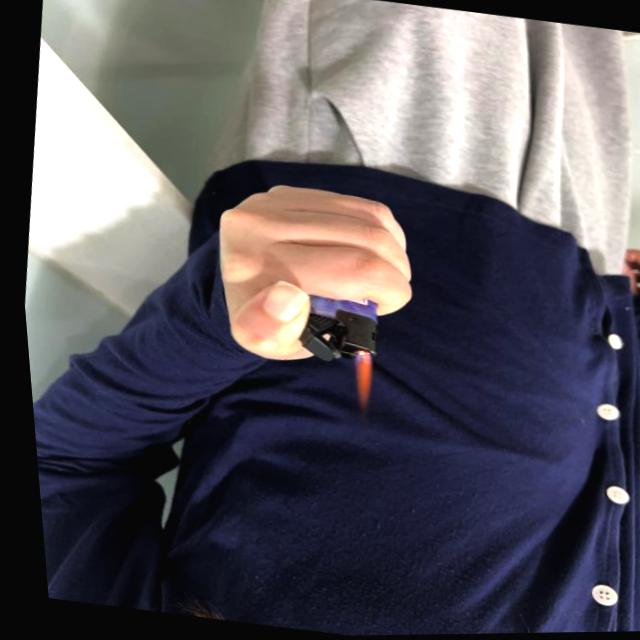Fire: (341, 351, 372, 415)
